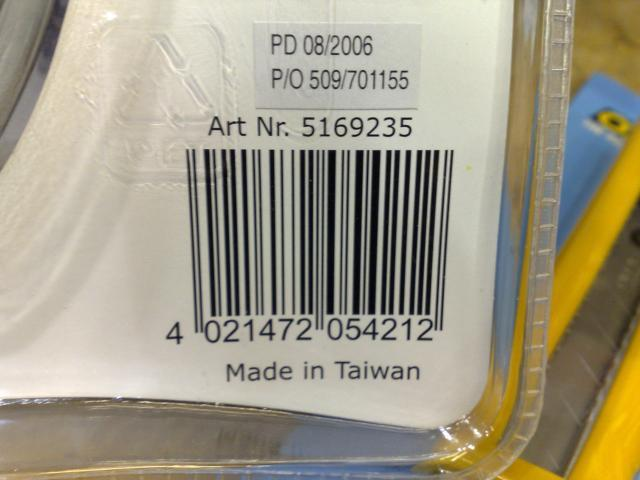Barcode: (155, 143, 459, 355)
